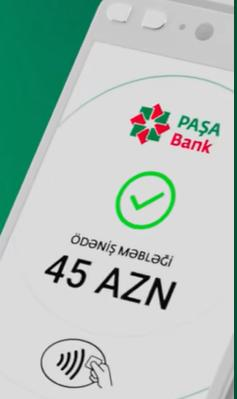Pasha Bank: (128, 101, 171, 146)
